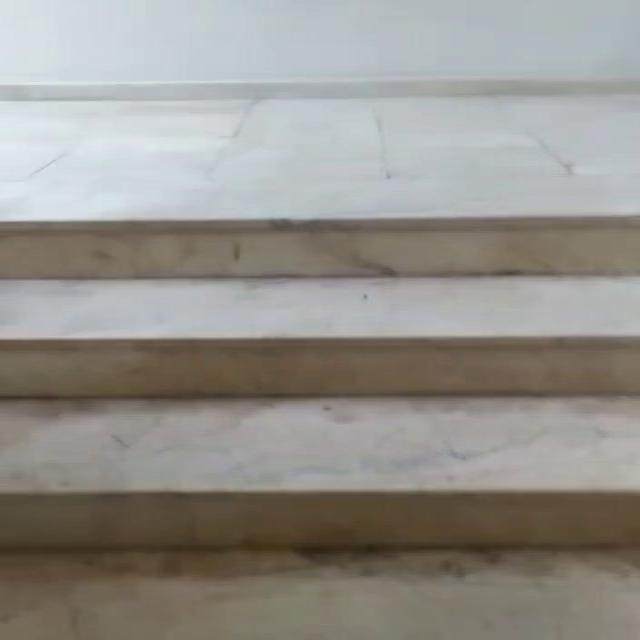stair: (4, 203, 640, 640)
